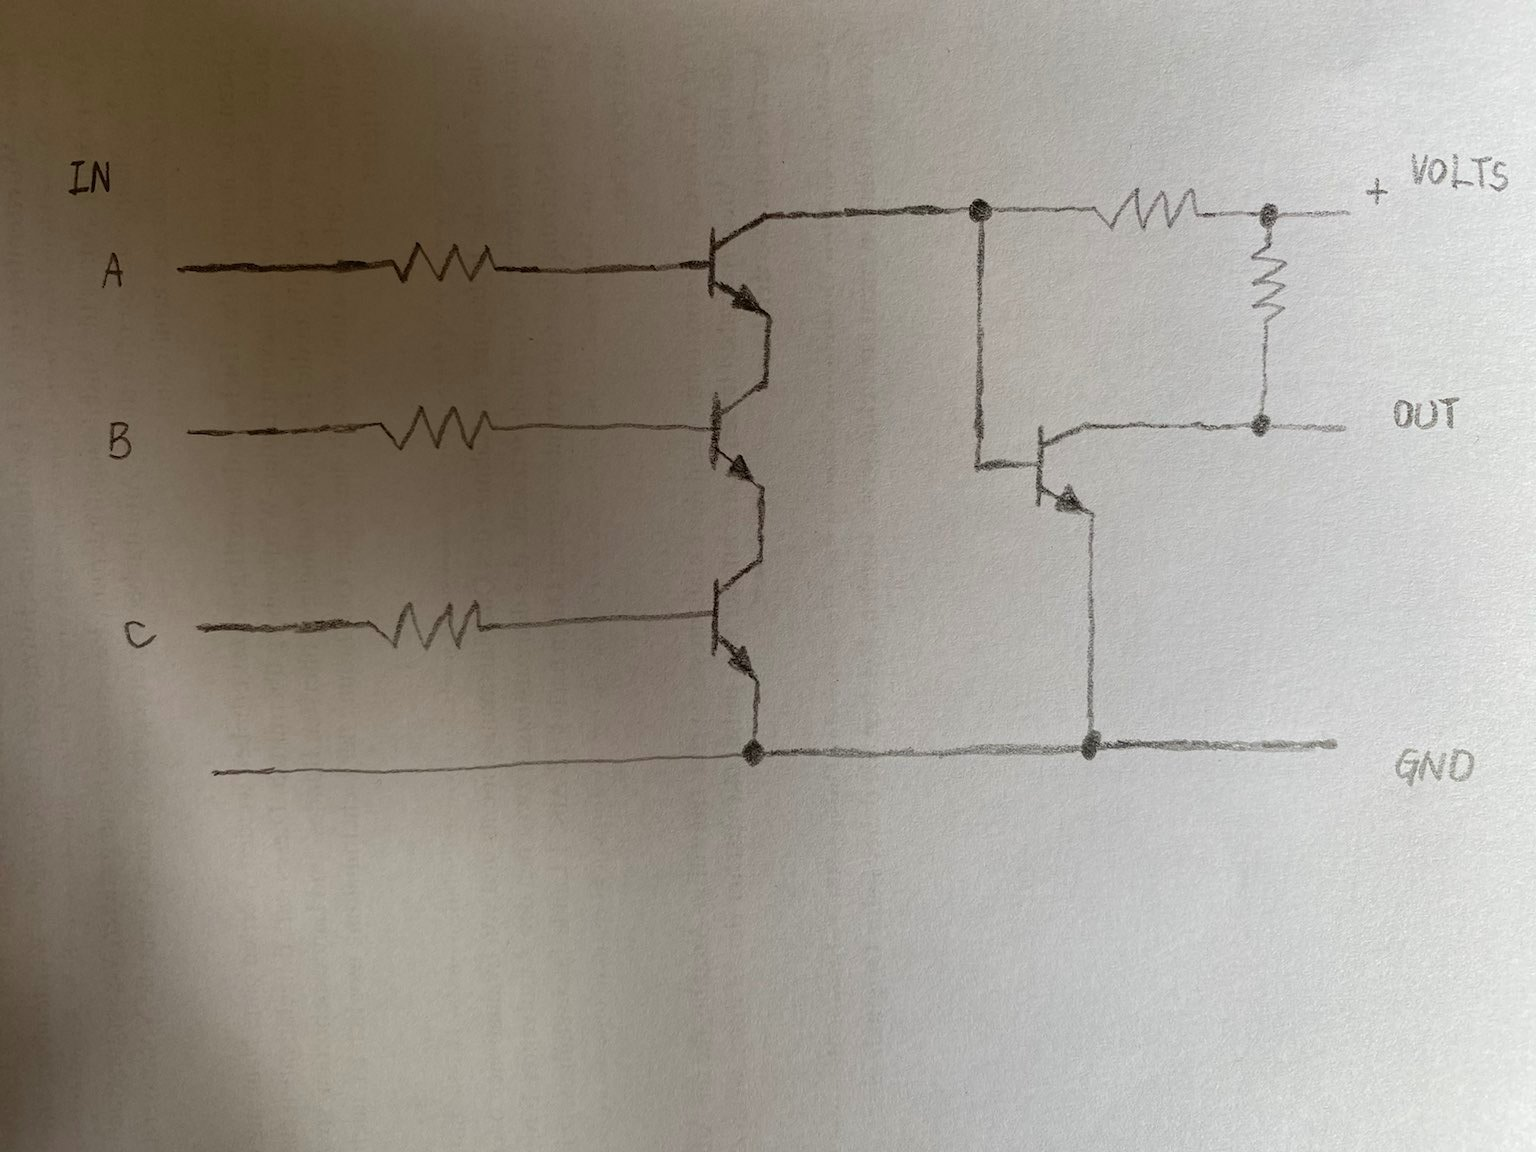junction: (733, 724, 783, 774), (959, 184, 999, 237), (1072, 718, 1113, 767), (1242, 401, 1284, 447), (1249, 192, 1290, 234)
resistor: (359, 591, 506, 653), (376, 234, 515, 295), (1081, 178, 1211, 240), (373, 401, 506, 456), (1245, 237, 1299, 329)
terminal: (1321, 730, 1349, 761), (166, 257, 191, 281), (1332, 416, 1356, 440), (1336, 201, 1358, 224), (190, 616, 210, 639), (179, 422, 200, 444), (204, 764, 225, 784)
text: (1408, 145, 1512, 198), (1390, 738, 1479, 797), (60, 146, 122, 205), (1388, 388, 1463, 436), (89, 240, 134, 298), (100, 414, 145, 470), (117, 610, 160, 655), (1363, 172, 1391, 208)
transistor: (691, 547, 792, 692), (691, 198, 807, 323), (694, 367, 797, 500), (1020, 401, 1121, 532)
